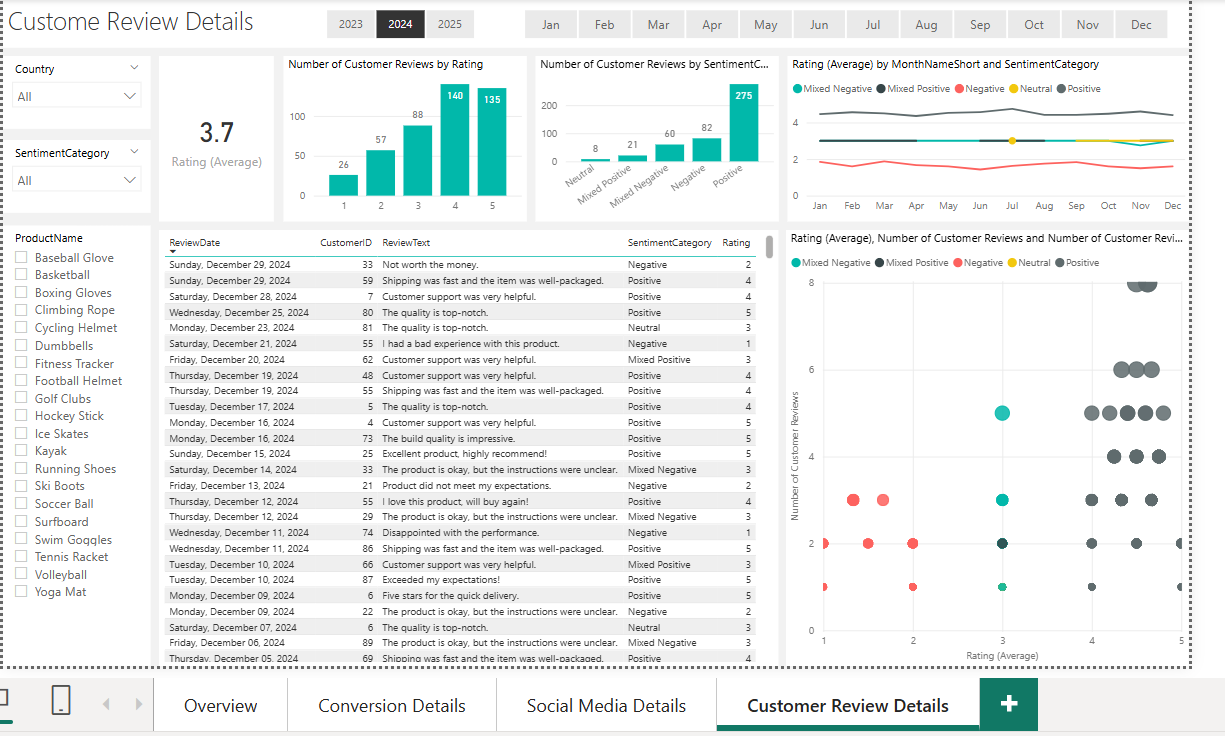

The page's visual inventory and layout, read from the dashboard file:
{"tool":"powerbi","page":{"name":"Customer Review Details","canvas":[1280,720],"ordinal":3},"visuals":[{"type":"textbox","box":[0,0,1280,52.6],"z":0},{"type":"slicer","fields":{"Values":["dim_products.ProductName"]},"box":[0,244.2,159.3,475.3],"z":1000},{"type":"card","fields":{"Values":["_Calculations.Rating (Average)"]},"box":[168.5,61.9,123.8,178.5],"z":2000},{"type":"slicer","fields":{"Values":["Calendar.MonthNameShort"]},"box":[536.8,4.1,743.2,44.4],"z":3000},{"type":"lineChart","fields":{"Category":["Calendar.MonthNameShort"],"Y":["_Calculations.Rating (Average)"],"Series":["fact_customer_reviews_with_sentiment.SentimentCategory"]},"box":[846.2,62,434.1,178.4],"z":4000},{"type":"slicer","fields":{"Values":["Calendar.Year"]},"box":[324.1,4.1,208.5,44.4],"z":5000},{"type":"tableEx","fields":{"Values":["fact_customer_reviews_with_sentiment.ReviewDate","fact_customer_reviews_with_sentiment.CustomerID","fact_customer_reviews_with_sentiment.ReviewText","fact_customer_reviews_with_sentiment.SentimentCategory","fact_customer_reviews_with_sentiment.Rating"]},"box":[168.5,249.5,668.4,470.8],"z":6000},{"type":"columnChart","fields":{"Category":["fact_customer_reviews_with_sentiment.Rating"],"Y":["_Calculations.Number of Customer Reviews"]},"box":[302.4,62,262.4,178.4],"z":7000},{"type":"columnChart","fields":{"Category":["fact_customer_reviews_with_sentiment.SentimentCategory"],"Y":["_Calculations.Number of Customer Reviews"]},"box":[574.3,62,262.4,178.4],"z":8000},{"type":"slicer","fields":{"Values":["dim_customers.Country"]},"box":[0,61.4,159.3,78.3],"z":9000},{"type":"slicer","fields":{"Values":["fact_customer_reviews_with_sentiment.SentimentCategory"]},"box":[0,152.8,159.3,78.3],"z":10000},{"type":"scatterChart","fields":{"Category":["dim_customers.CustomerID"],"Series":["fact_customer_reviews_with_sentiment.SentimentCategory"],"X":["_Calculations.Rating (Average)"],"Y":["_Calculations.Number of Customer Reviews"],"Size":["_Calculations.Number of Customer Reviews"]},"box":[846,249.5,434.4,470.8],"z":11000}]}

Visuals, with their boxes on the page's 1280x720 design canvas (x1, y1, x2, y2). These are canvas units, not pixel positions in the 1225x736 screenshot, which may show the page scaled, cropped or inside an application window:
textbox: [0,0,1280,53]
slicer - dim_products.ProductName: [0,244,159,720]
card - _Calculations.Rating (Average): [168,62,292,240]
slicer - Calendar.MonthNameShort: [537,4,1280,48]
lineChart - Calendar.MonthNameShort x _Calculations.Rating (Average): [846,62,1280,240]
slicer - Calendar.Year: [324,4,533,48]
tableEx - fact_customer_reviews_with_sentiment.ReviewDate x fact_customer_reviews_with_sentiment.CustomerID: [168,250,837,720]
columnChart - fact_customer_reviews_with_sentiment.Rating x _Calculations.Number of Customer Reviews: [302,62,565,240]
columnChart - fact_customer_reviews_with_sentiment.SentimentCategory x _Calculations.Number of Customer Reviews: [574,62,837,240]
slicer - dim_customers.Country: [0,61,159,140]
slicer - fact_customer_reviews_with_sentiment.SentimentCategory: [0,153,159,231]
scatterChart - dim_customers.CustomerID x fact_customer_reviews_with_sentiment.SentimentCategory: [846,250,1280,720]
